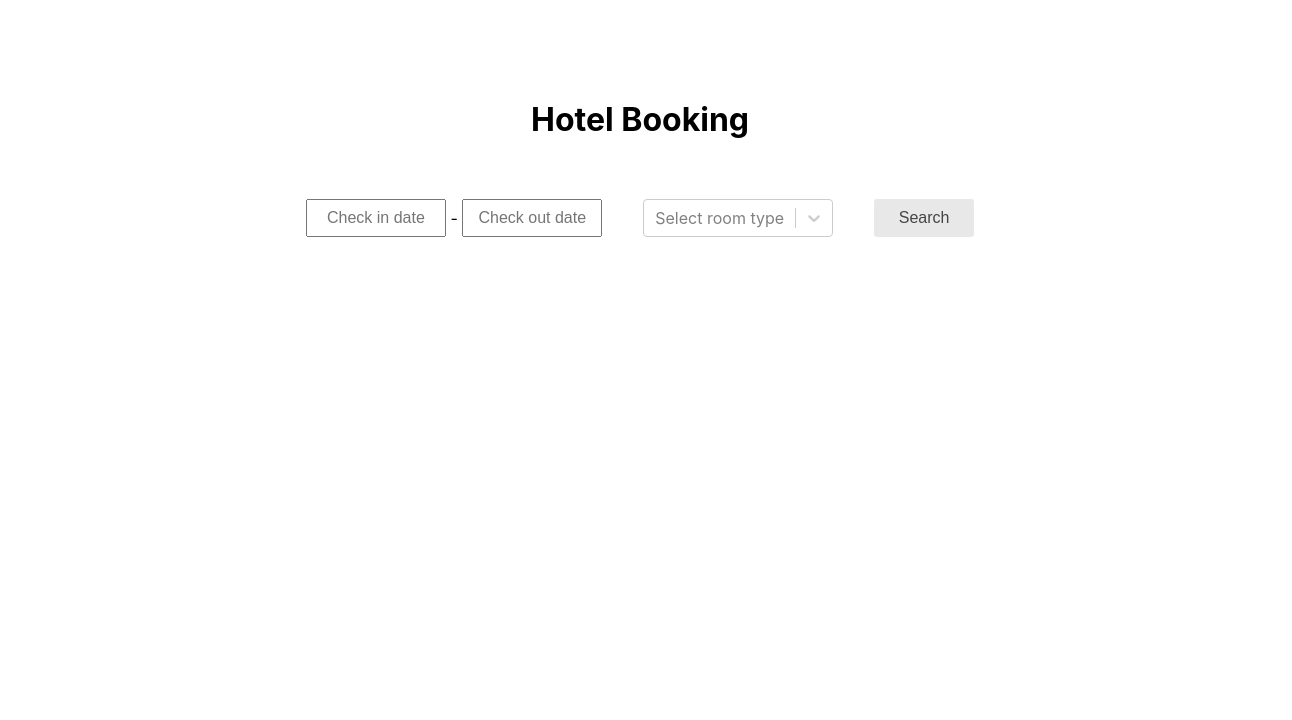
Test: returns all single rooms vacant if booking time is after all booked times from data
Type "06/06/2022" into the field with placeholder "Check in date" at {"x": 376, "y": 218}, box x1=306 y1=199 x2=446 y2=237
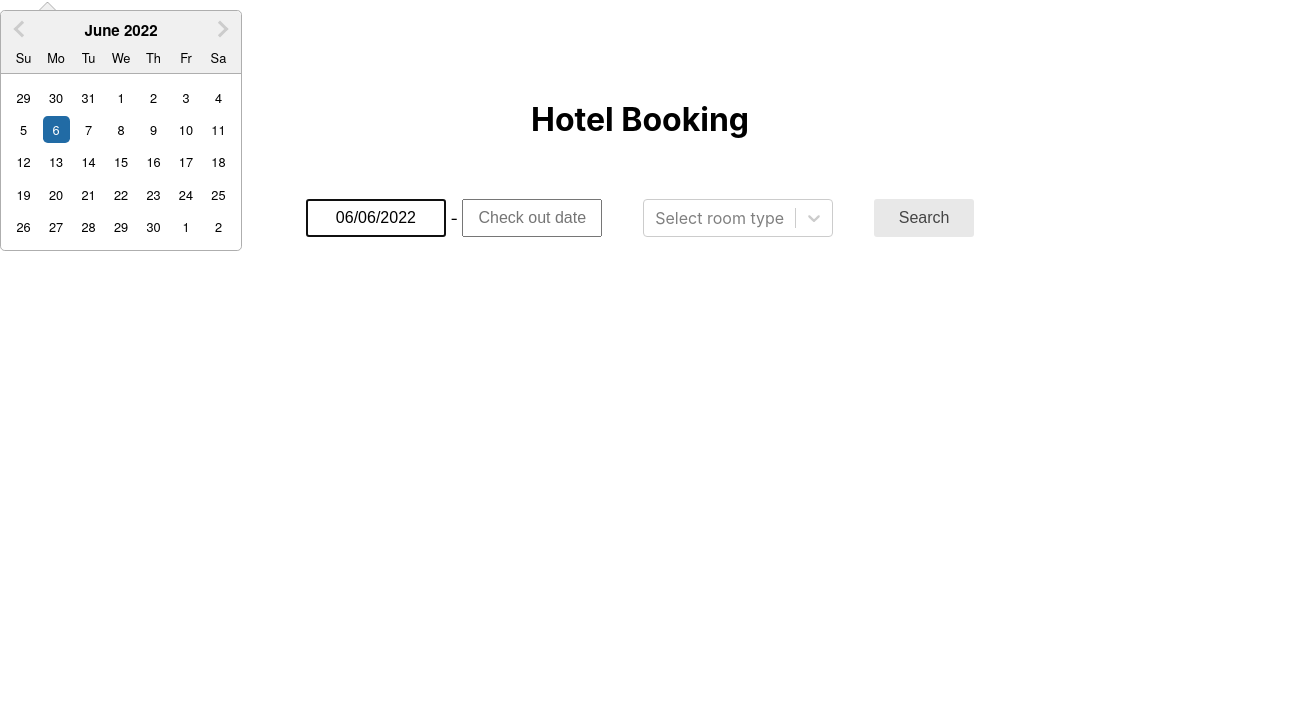
Type "13/06/2022" into the field with placeholder "Check out date" at {"x": 532, "y": 218}, box x1=462 y1=199 x2=602 y2=237
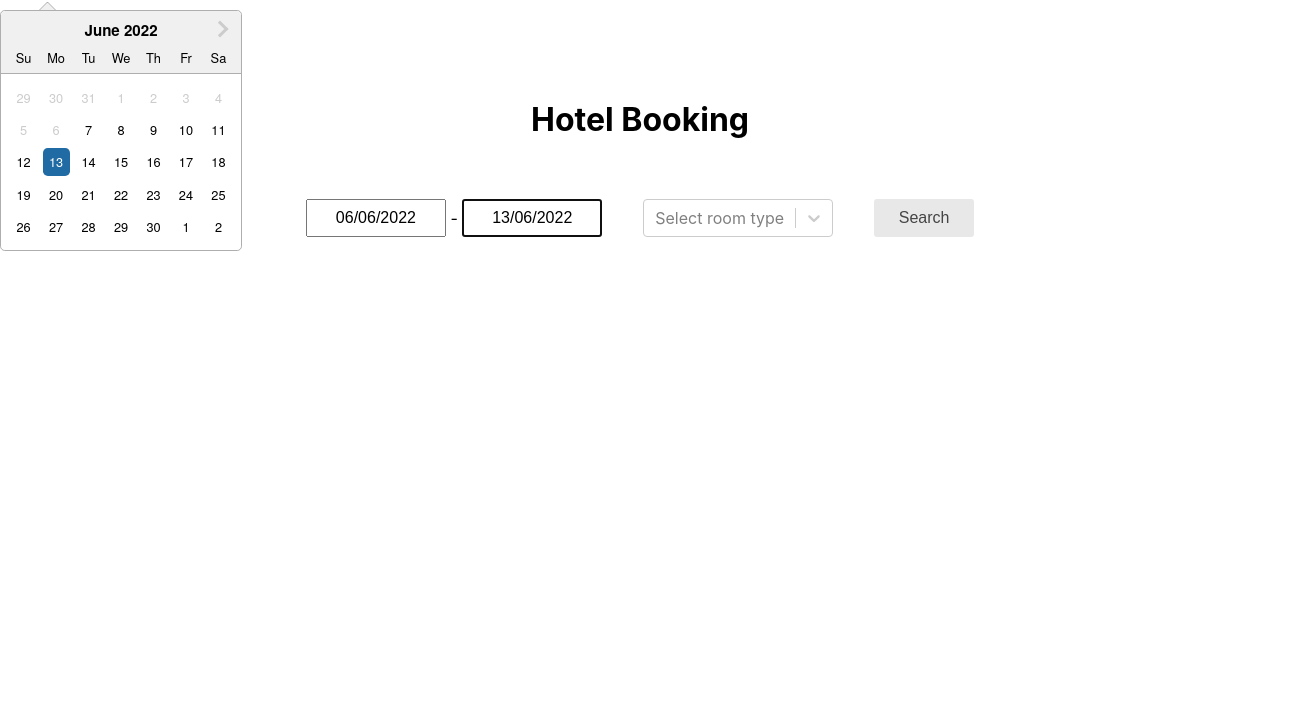
Click the element showing "Select room type" at {"x": 738, "y": 218}, box x1=643 y1=199 x2=833 y2=237
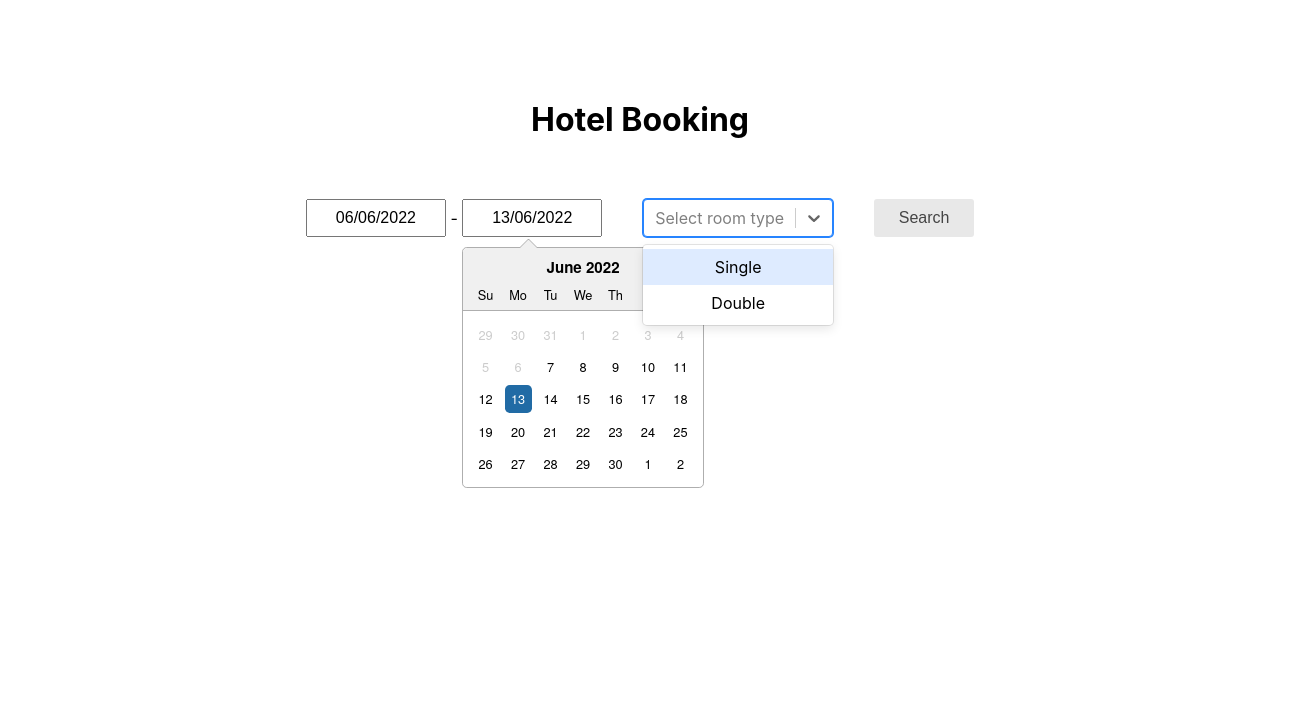
Click the option "Single" at {"x": 738, "y": 267}, box x1=643 y1=249 x2=833 y2=285
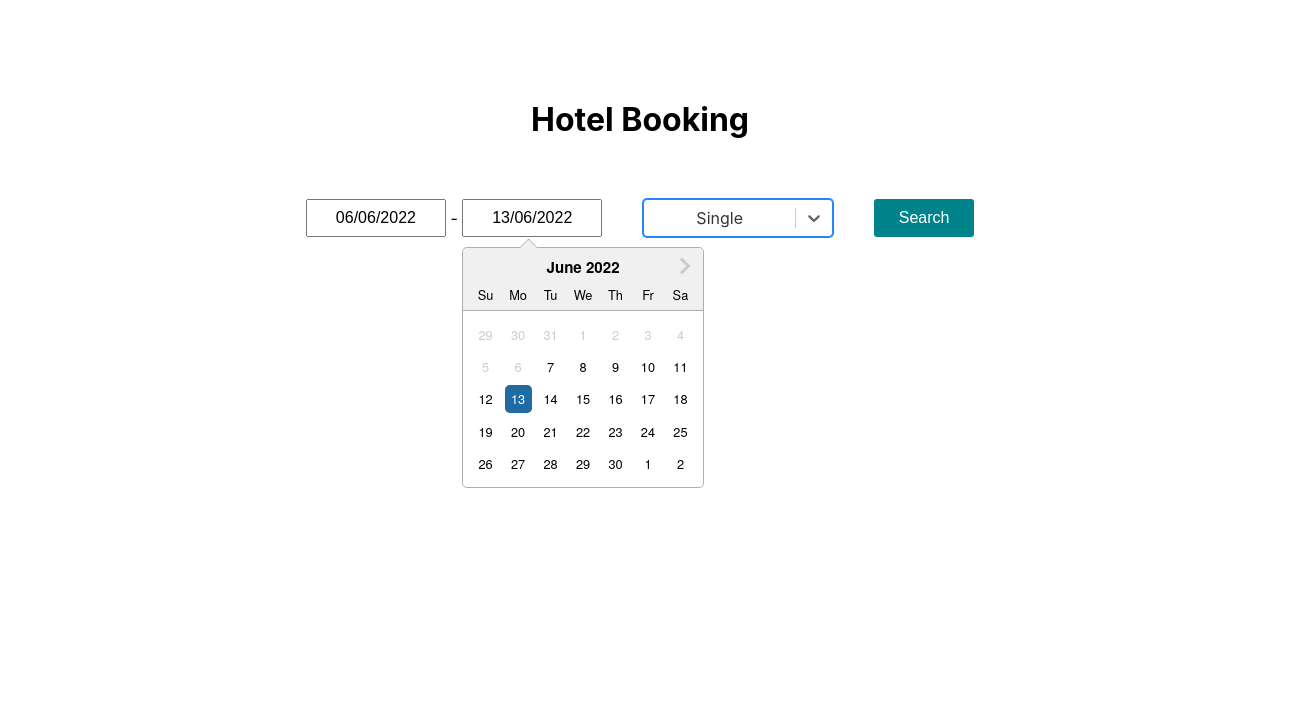
Click the button "Search" at {"x": 924, "y": 218}, box x1=874 y1=199 x2=974 y2=237
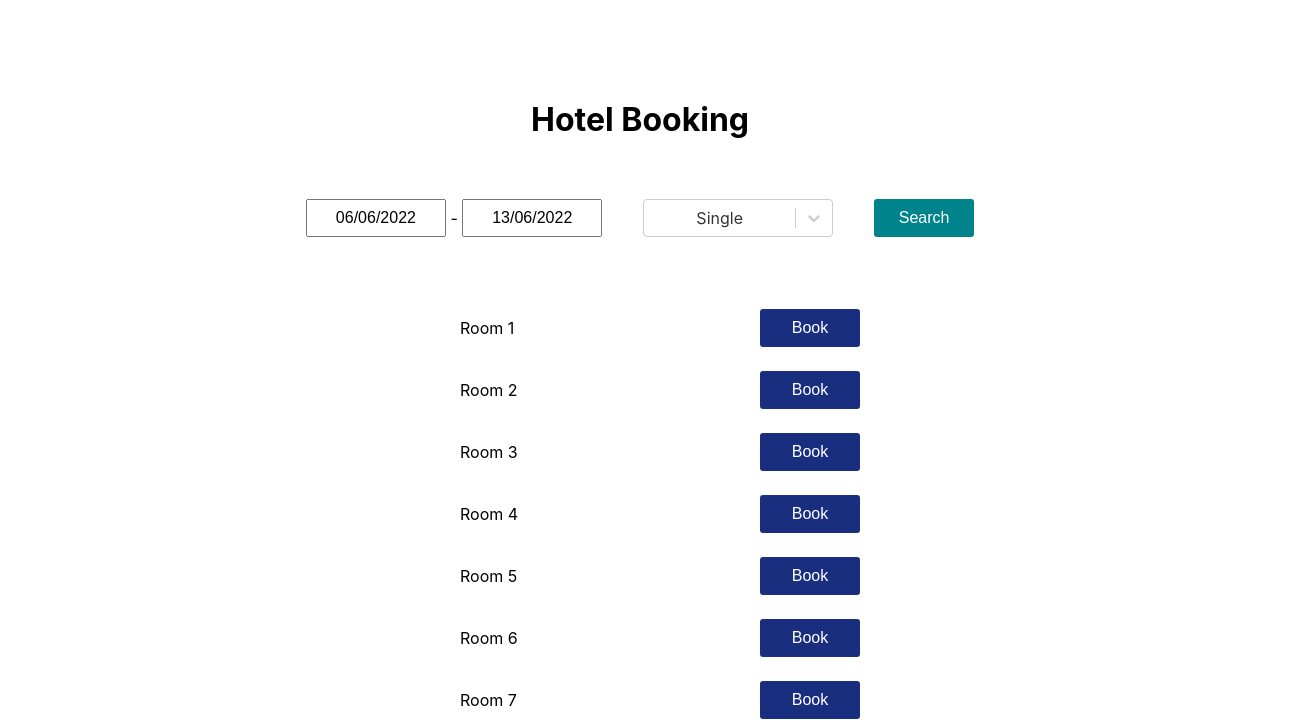
Result: the number of list items is 7
